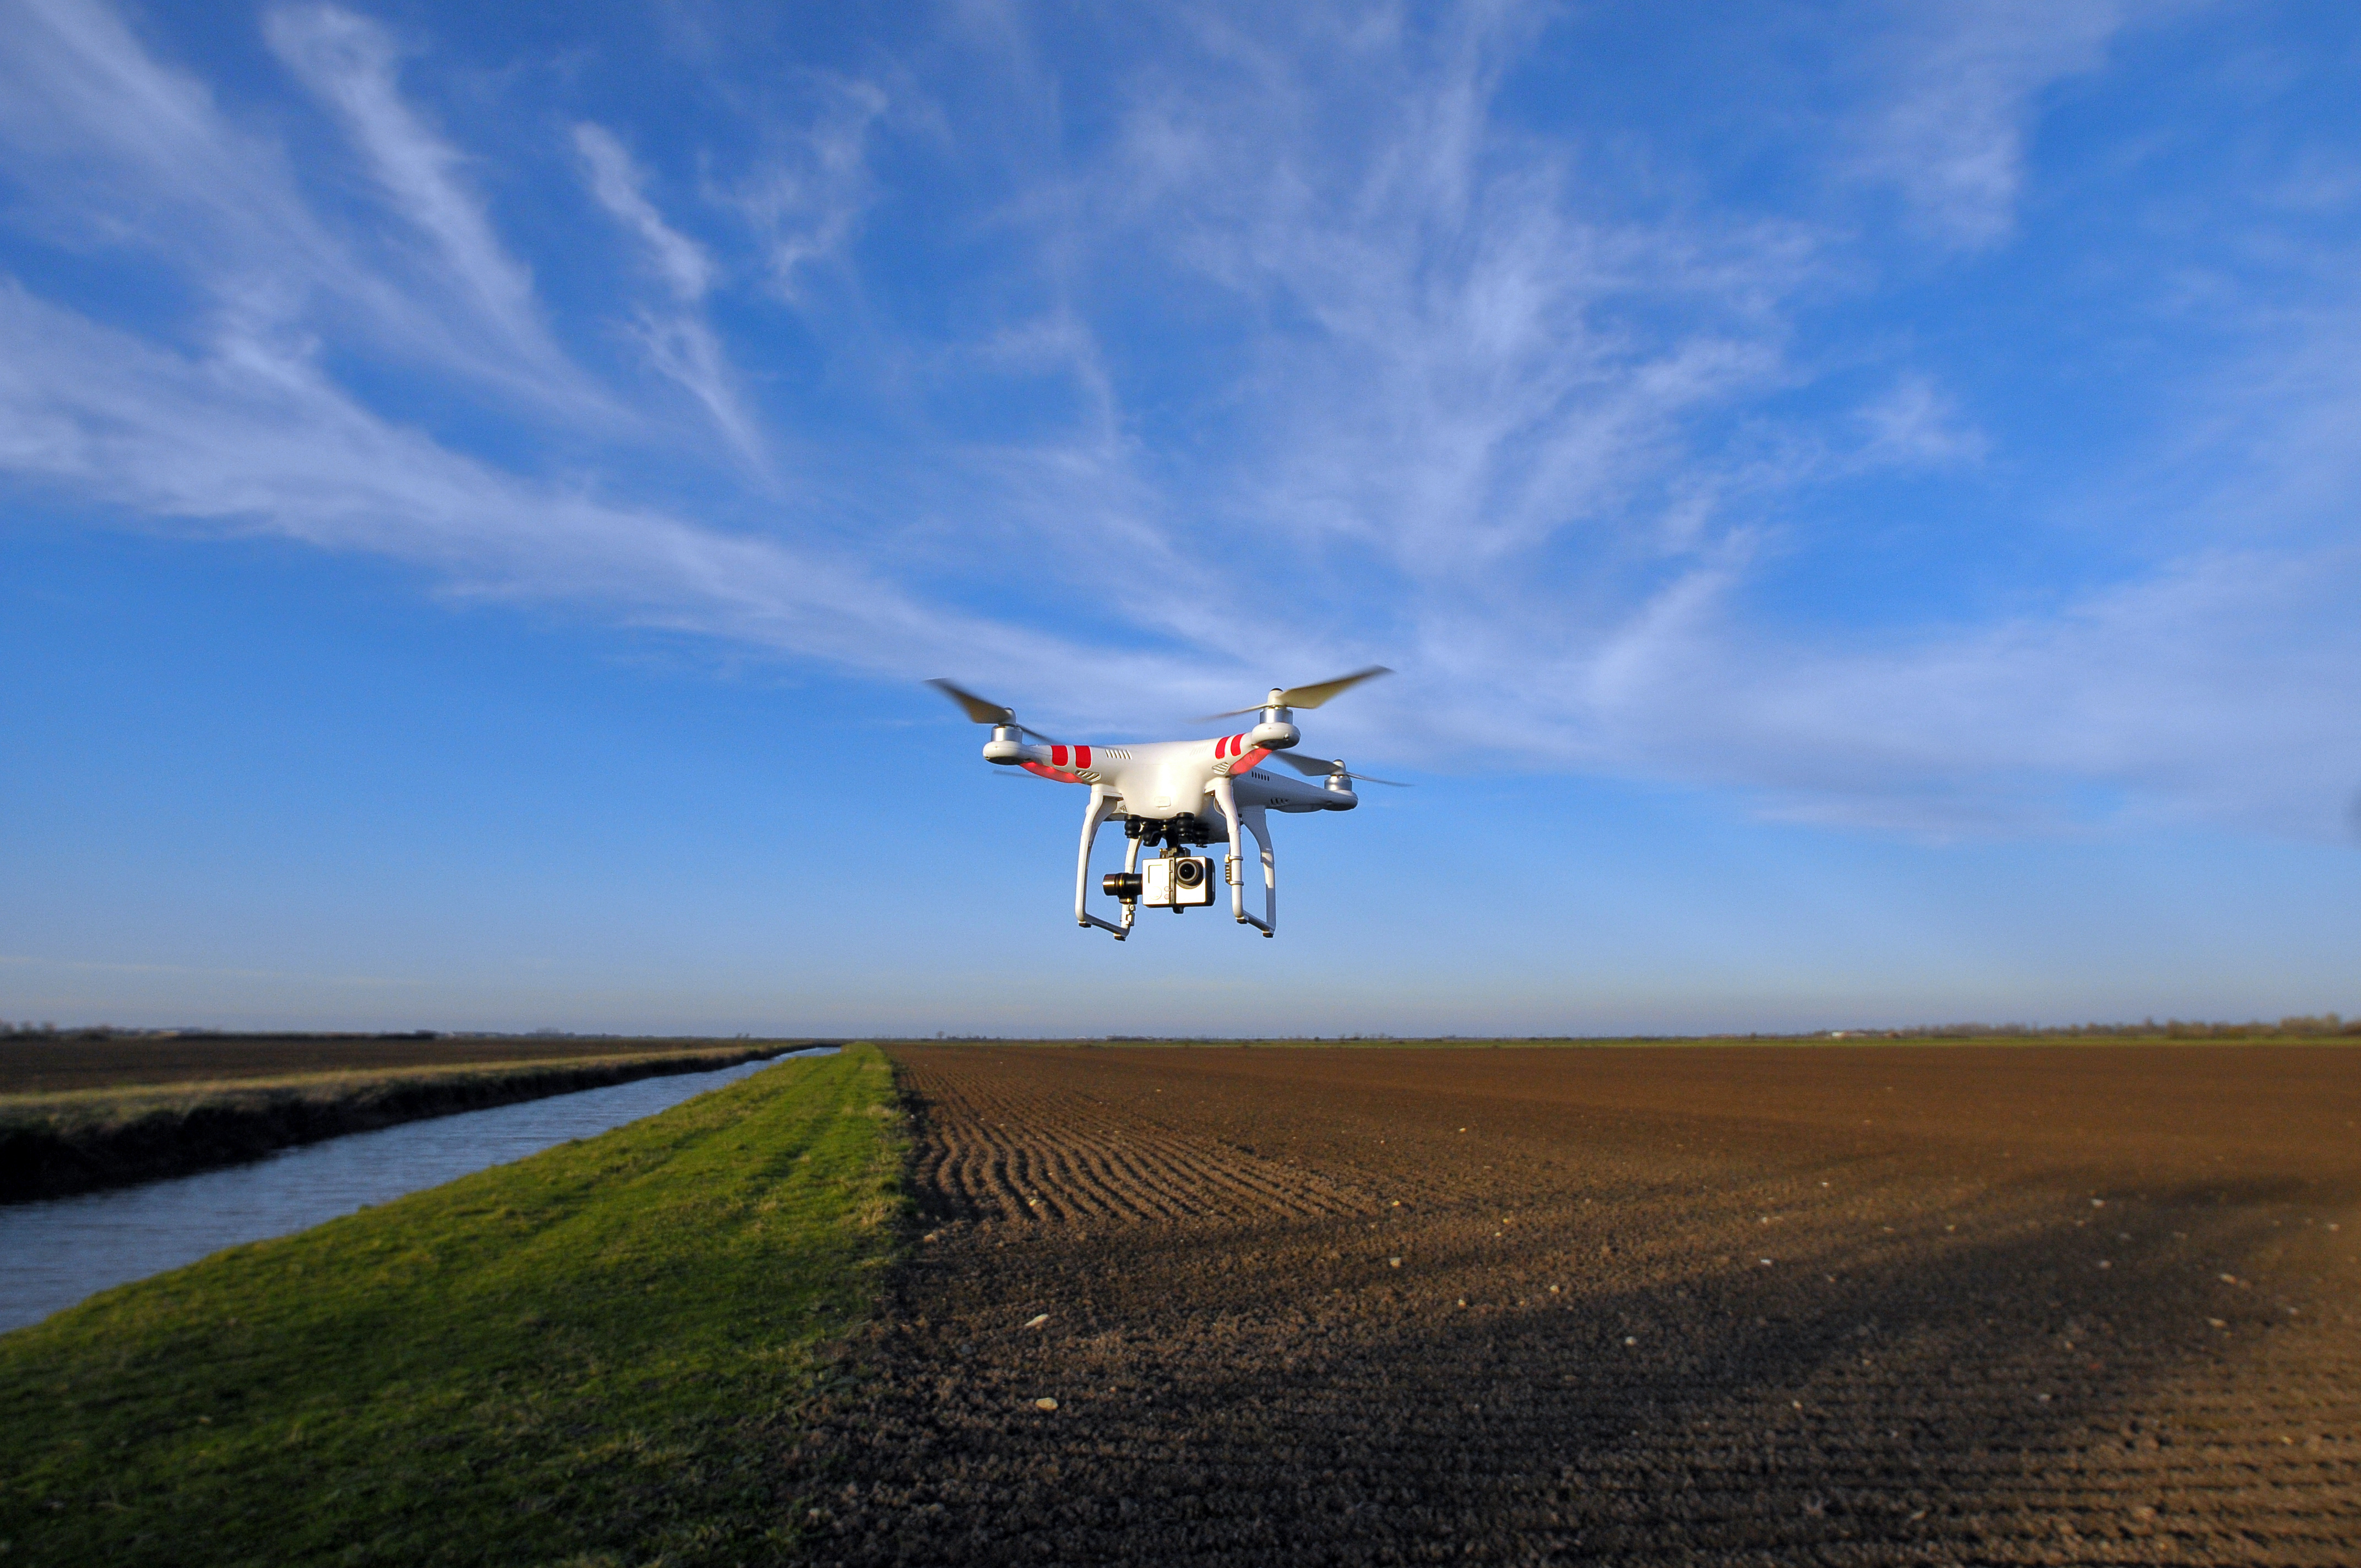drone: (914, 663, 1426, 950)
